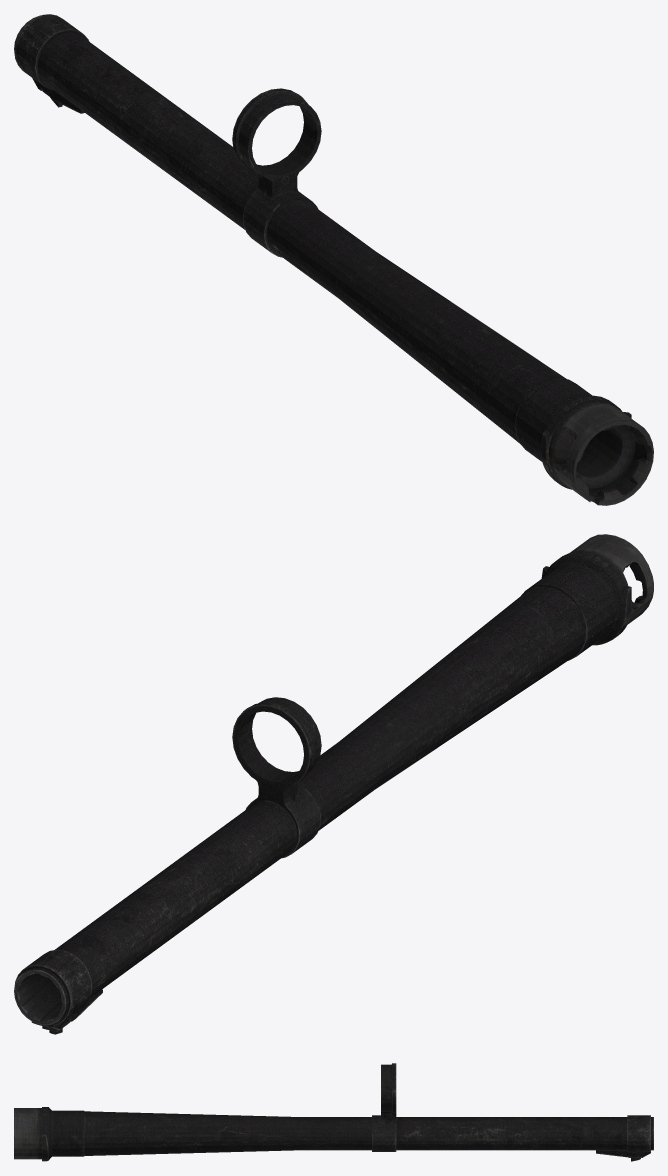
3 views of the same model, one above another, from view 1: azimuth 30°, elevation 25°; view 2: azimuth 150°, elevation 25°; view 3: azimuth 270°, elevation 25° (orthographic). The views are drawn at different scales.
Visible parts, largest first — view 1: TW_5e848d2eea0a7c419c2f9bfd_PZ_Import; view 2: TW_5e848d2eea0a7c419c2f9bfd_PZ_Import; view 3: TW_5e848d2eea0a7c419c2f9bfd_PZ_Import.
Boxes of the visible parts, left/top/right/bottom form: TW_5e848d2eea0a7c419c2f9bfd_PZ_Import: left=14, top=14, right=653, bottom=505; TW_5e848d2eea0a7c419c2f9bfd_PZ_Import: left=14, top=534, right=653, bottom=1034; TW_5e848d2eea0a7c419c2f9bfd_PZ_Import: left=14, top=1063, right=653, bottom=1161.
Bounding box in the file's own units: 0.0254 × 0.2949 × 0.0487.
1 material, 1 textured.
